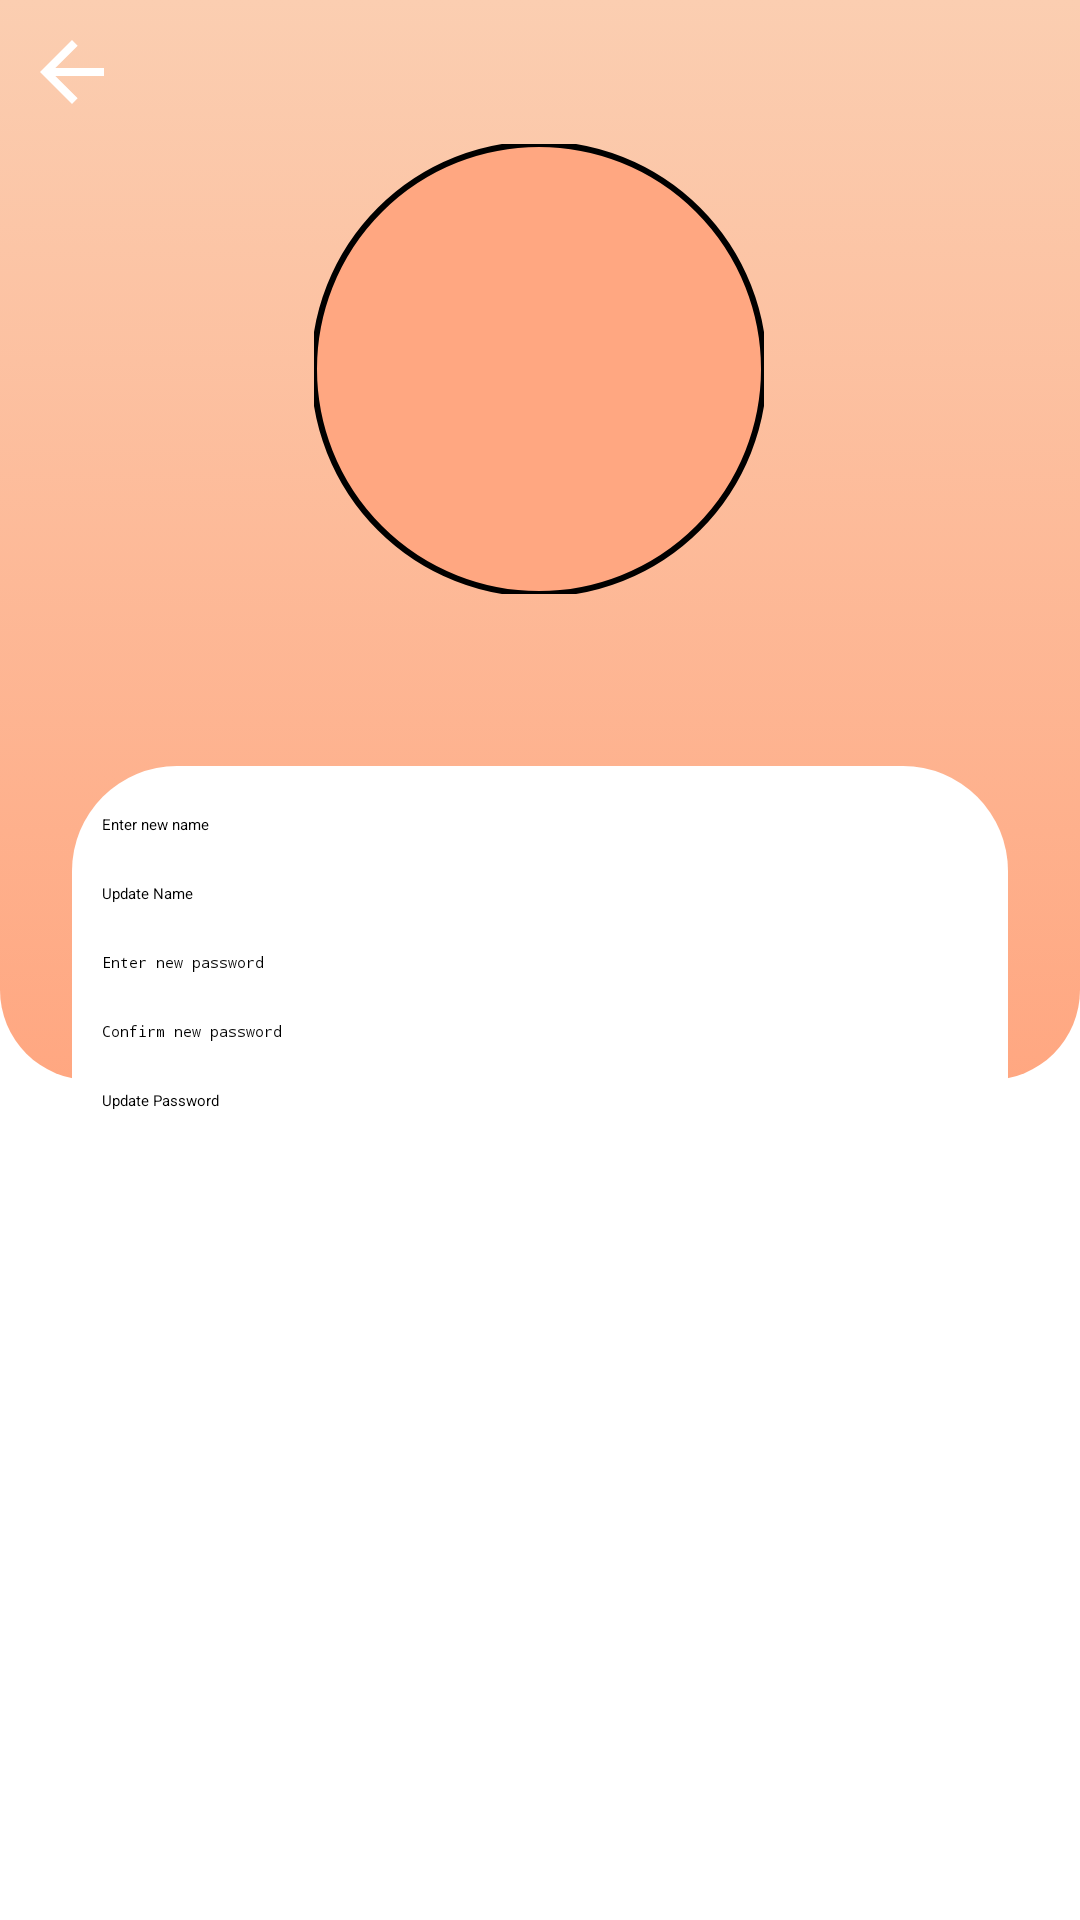

Icon bounding boxes for this 1080px x 1920px phone screenshot, format bbox=[x1, y1, x2, y2]:
arrow back: bbox=[40, 40, 104, 104]
